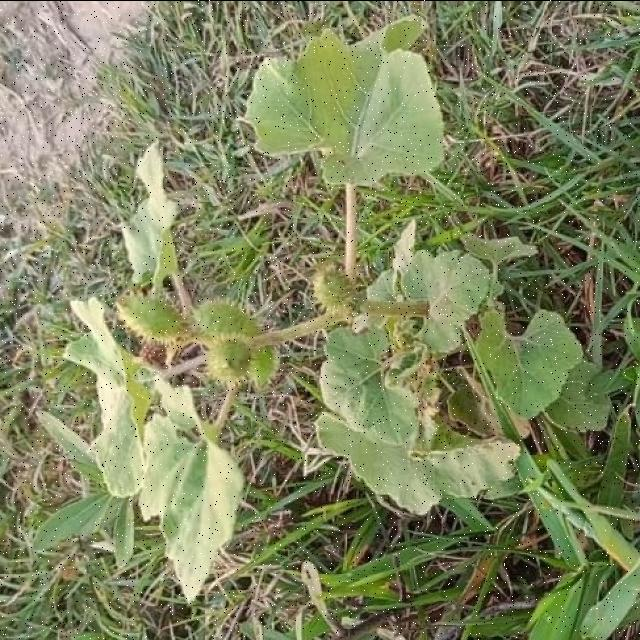weed: (35, 15, 625, 596)
